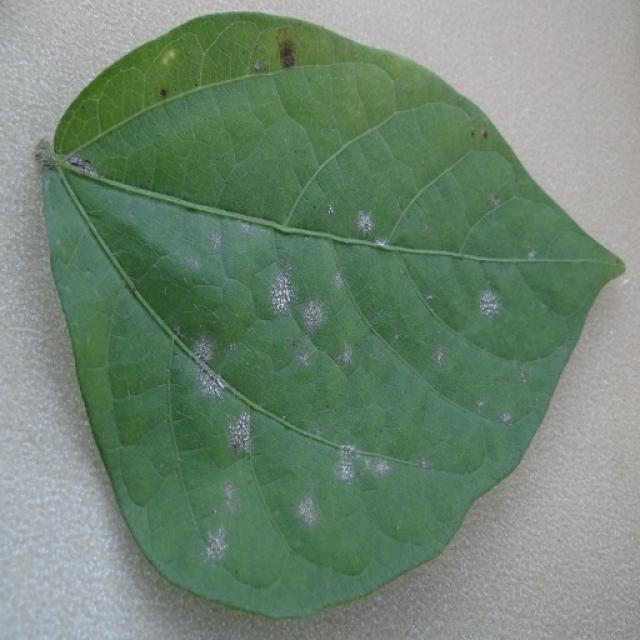Blackgram: (42, 14, 624, 616)
Powdery_Mildew: (318, 212, 520, 441), (255, 252, 397, 448), (269, 259, 339, 347), (206, 470, 247, 568), (185, 324, 235, 404), (467, 257, 513, 324), (337, 442, 398, 487), (261, 271, 295, 317), (270, 268, 294, 314), (228, 414, 252, 454), (299, 299, 325, 333), (204, 524, 229, 558), (199, 367, 225, 398), (337, 445, 358, 479), (298, 494, 318, 527), (192, 336, 215, 362), (478, 290, 501, 315), (73, 159, 102, 178), (355, 211, 374, 236), (370, 457, 392, 476), (337, 348, 353, 370), (296, 346, 313, 365), (184, 255, 200, 271), (333, 270, 345, 291), (210, 381, 224, 399), (432, 346, 445, 364), (224, 482, 236, 501), (210, 232, 222, 250), (518, 363, 529, 381), (342, 443, 356, 457), (419, 456, 432, 470), (240, 411, 250, 428), (490, 194, 501, 207), (240, 222, 251, 234), (254, 60, 266, 71), (375, 238, 388, 248), (501, 412, 512, 423), (313, 426, 323, 438), (174, 327, 183, 338), (378, 347, 387, 358), (527, 250, 536, 260), (228, 342, 237, 352), (327, 204, 335, 215), (425, 293, 434, 301), (623, 277, 631, 286), (477, 400, 485, 408), (394, 333, 400, 341)
